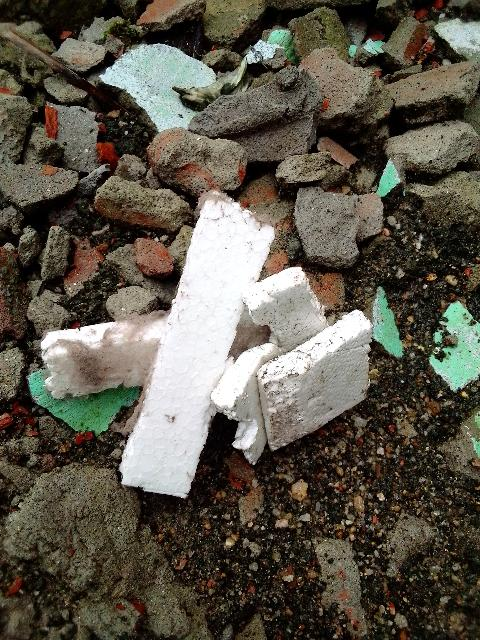cocksheet: (38, 161, 378, 509)
